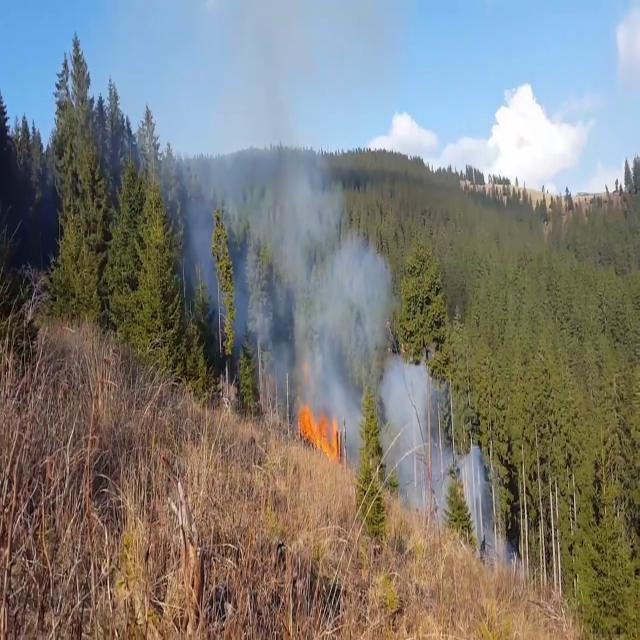Fire: (296, 392, 341, 459)
Smoke: (180, 56, 396, 446)
